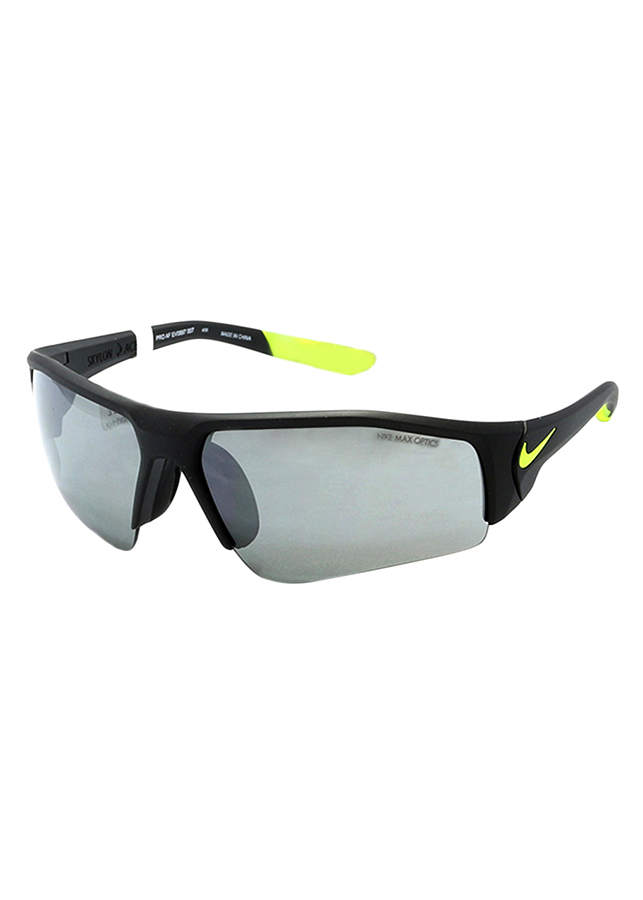Nike: (514, 425, 563, 469)
